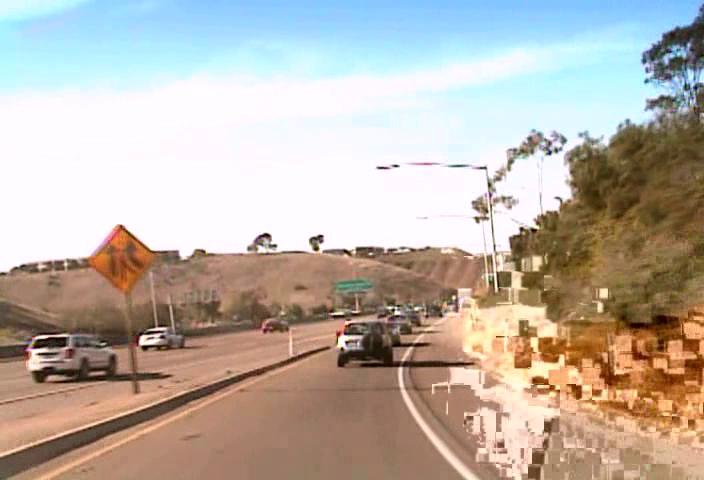addedLane: (87, 224, 154, 291)
